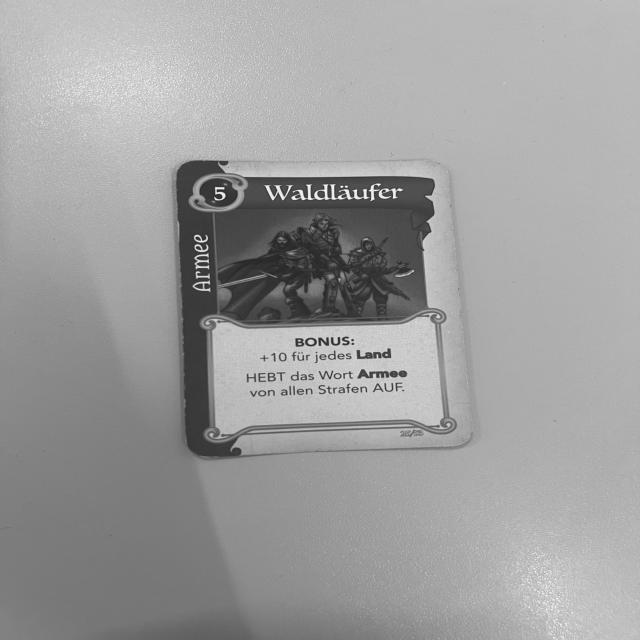Rangers: (174, 162, 477, 466)
